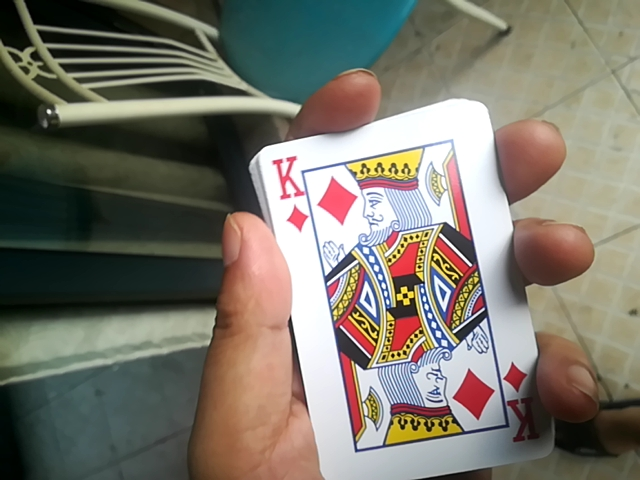fk k: (265, 93, 552, 480)
